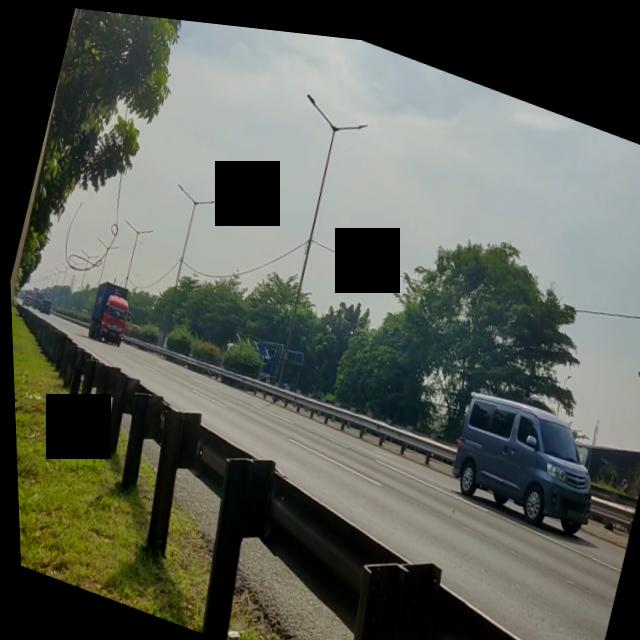Golongan I: (431, 357, 613, 537)
